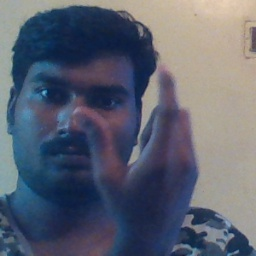U: (74, 61, 206, 234)
